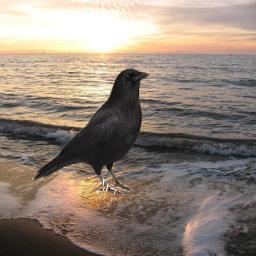Crow: (32, 66, 151, 196)
